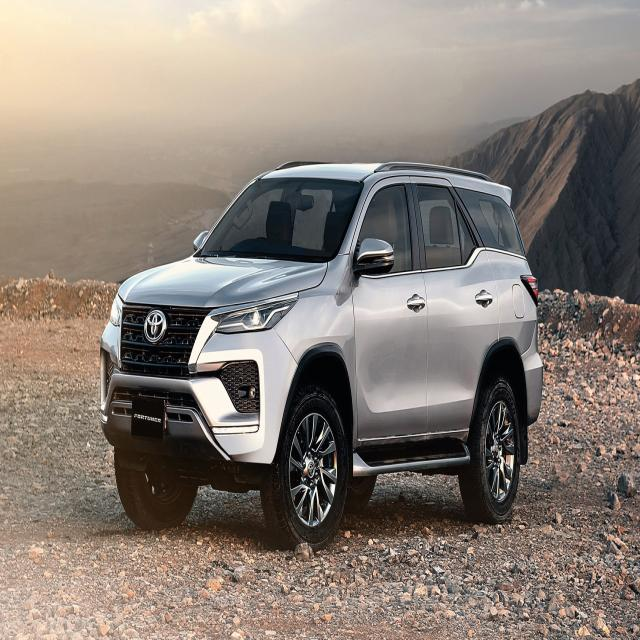light_vehicle: (99, 160, 544, 550)
